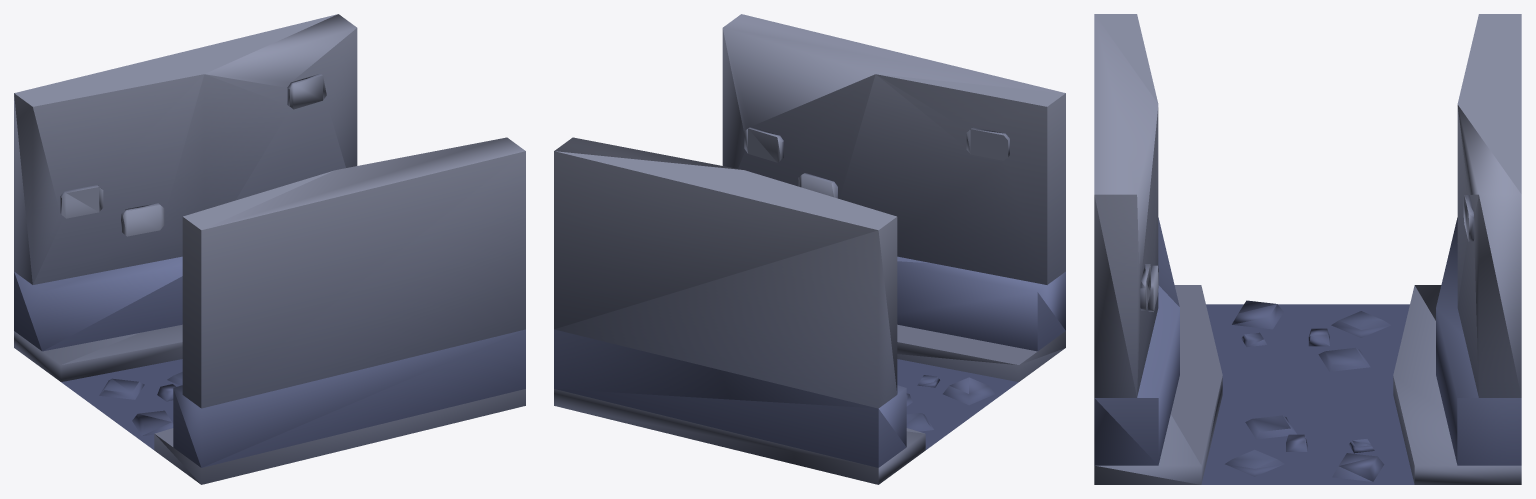
Rendered from corridor_lev2.glb.
3 renders of one model, left to right at view 1: azimuth 30°, elevation 25°; view 2: azimuth 150°, elevation 25°; view 3: azimuth 270°, elevation 25°, orthographic. The views are drawn at different scales.
Parts seen in each view (by area): view 1: corridor_lev2; view 2: corridor_lev2; view 3: corridor_lev2.
Part boxes in pixels (x1,y1,x2,y2): corridor_lev2: [14, 14, 525, 484]; corridor_lev2: [554, 14, 1065, 484]; corridor_lev2: [1094, 14, 1521, 484].
Size of the model in its own units: 4 by 3 by 4.
1 material, 1 textured.
